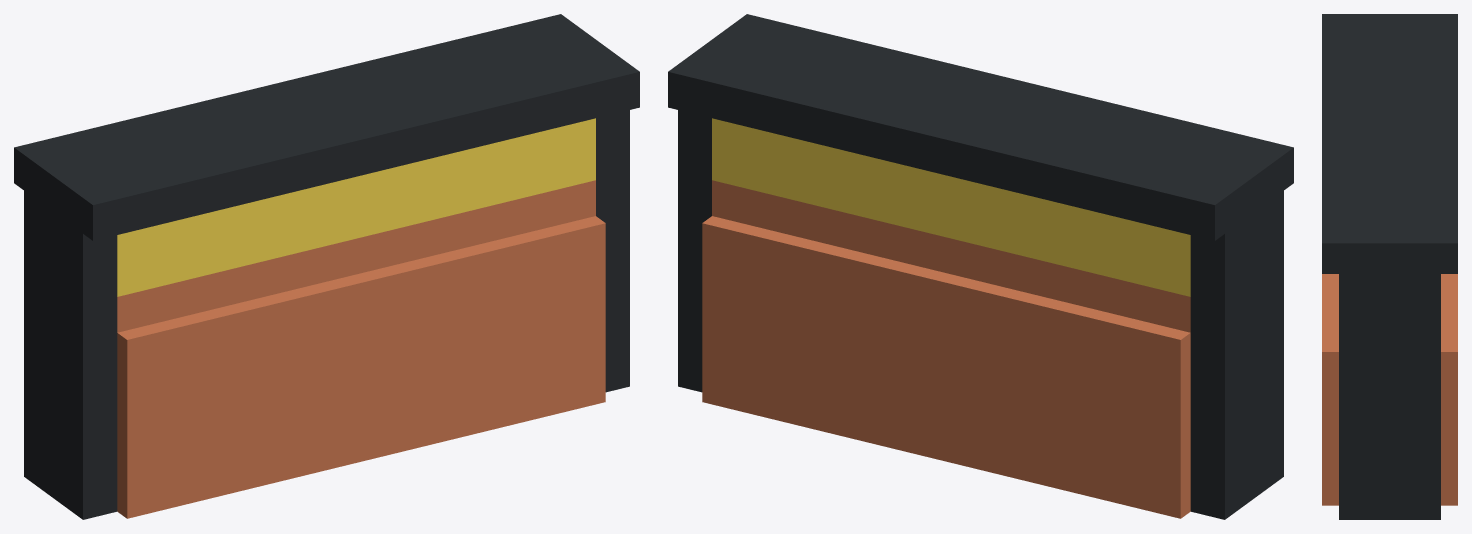
File: wall.glb
3 views of the same model, side by side, from view 1: azimuth 30°, elevation 25°; view 2: azimuth 150°, elevation 25°; view 3: azimuth 270°, elevation 25° (orthographic). The views are drawn at different scales.
Visible parts, largest first — view 1: generated(Clone); view 2: generated(Clone); view 3: generated(Clone).
Part boxes in pixels (x1=…): generated(Clone): x1=14, y1=14, x2=639, y2=519; generated(Clone): x1=668, y1=14, x2=1293, y2=519; generated(Clone): x1=1322, y1=14, x2=1457, y2=519.
Bounding box in the file's own units: 16 × 9 × 4.
